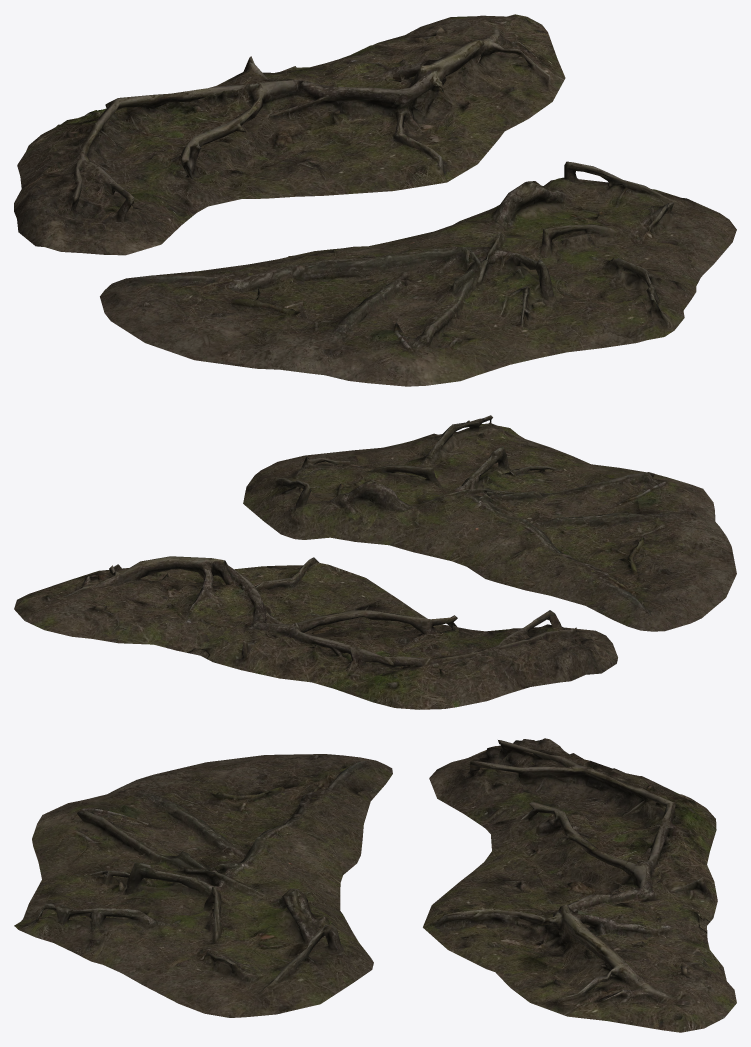
Rendered from pine_roots.glb.
The picture shows the model from 3 angles, top to bottom: view 1: azimuth 30°, elevation 25°; view 2: azimuth 150°, elevation 25°; view 3: azimuth 270°, elevation 25°; orthographic projection. The views are drawn at different scales.
Parts seen in each view (by area): view 1: pine_roots_b, pine_roots_a; view 2: pine_roots_b, pine_roots_a; view 3: pine_roots_b, pine_roots_a.
Part boxes in pixels (x1,y1,x2,y2): pine_roots_b: (100, 161, 736, 386); pine_roots_a: (14, 14, 565, 255); pine_roots_b: (243, 415, 736, 631); pine_roots_a: (14, 556, 617, 709); pine_roots_b: (14, 754, 392, 1017); pine_roots_a: (423, 738, 736, 1032).
Size of the model in its own units: 1.77 by 0.1538 by 1.89.
2 materials, 2 textured.
